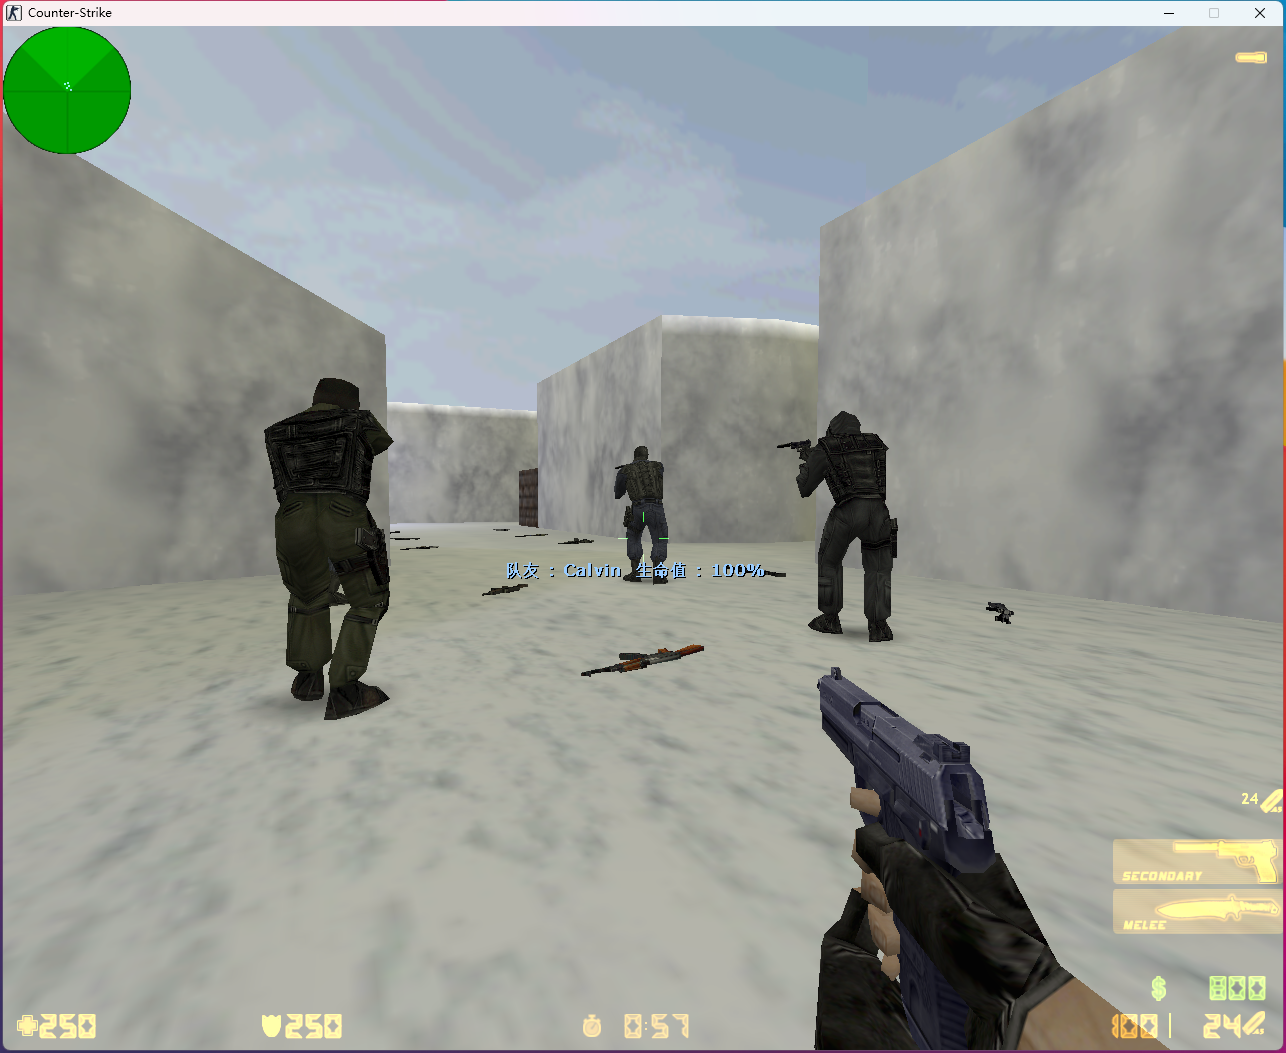C: (261, 378, 390, 721), (778, 410, 897, 643), (612, 446, 666, 585)
weapon: (583, 639, 706, 680), (740, 563, 787, 585), (484, 577, 529, 598), (986, 597, 1015, 625), (553, 539, 592, 547), (399, 546, 437, 551)
